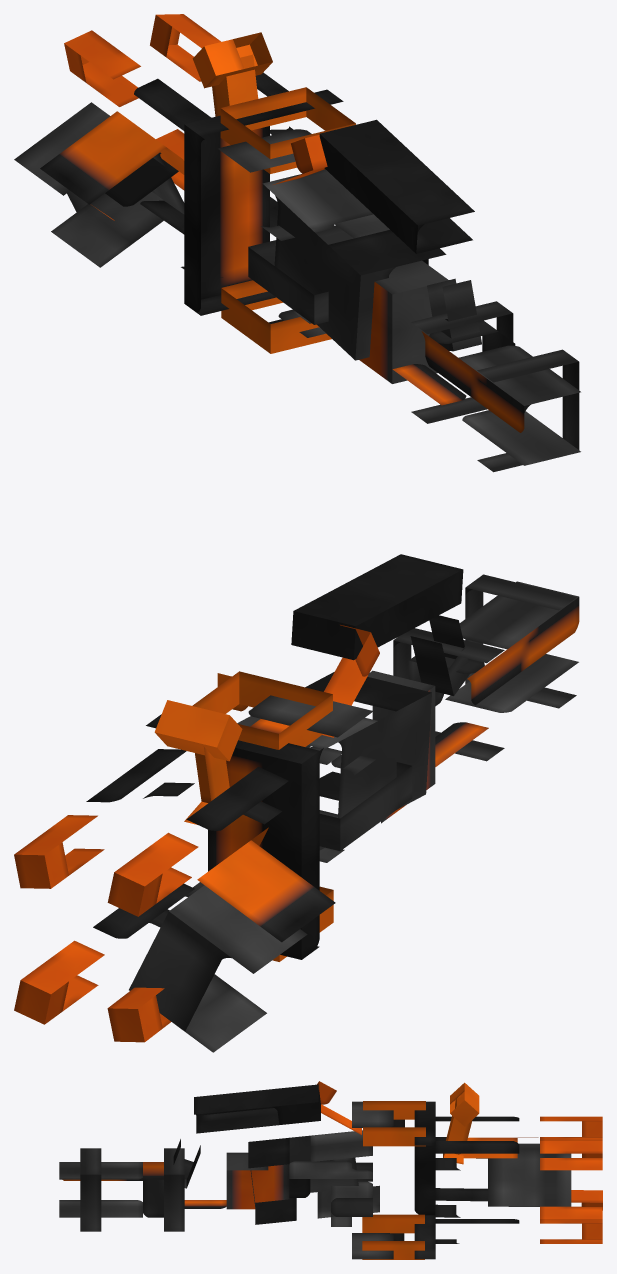
Rendered from flamethrower.obj.
3 views of the same model, one above another, from view 1: azimuth 30°, elevation 25°; view 2: azimuth 150°, elevation 25°; view 3: azimuth 270°, elevation 25° (orthographic). The views are drawn at different scales.
Parts seen in each view (by area): view 1: Ring, LargeBarrelDecor, Barrel, SupportCentre, Hydrogen, HydrogenDecor, LargeBarrel, AxleTRight, RingTop, LargeBarrelDecor2, RingButtom, BarrelRing2 (+8 smaller); view 2: Hydrogen, Ring, Barrel, SupportCentre, LargeBarrelDecor, AxleTRight, HydrogenDecor, AxleBLeft, AxleTLeft, RingTop, LargeBarrelDecor2, Grasp (+7 smaller); view 3: LargeBarrelDecor, Ring, SupportCentre, Hydrogen, Barrel, LargeBarrelDecor2, AxleTLeft, LargeBarrel, AxleBRight, RingTop, RingButtom, BarrelRing2 (+8 smaller).
Boxes of the visible parts, x1=… form: Ring: x1=184, y1=89, x2=343, y2=337; LargeBarrelDecor: x1=262, y1=169, x2=446, y2=360; Barrel: x1=392, y1=320, x2=580, y2=465; SupportCentre: x1=319, y1=119, x2=474, y2=253; Hydrogen: x1=14, y1=102, x2=184, y2=267; HydrogenDecor: x1=40, y1=111, x2=184, y2=206; LargeBarrel: x1=293, y1=224, x2=448, y2=383; AxleTRight: x1=64, y1=30, x2=211, y2=130; RingTop: x1=220, y1=87, x2=355, y2=173; LargeBarrelDecor2: x1=248, y1=214, x2=428, y2=324; RingButtom: x1=221, y1=280, x2=331, y2=353; BarrelRing2: x1=477, y1=349, x2=579, y2=472; Hydrogen: x1=129, y1=885, x2=307, y2=1052; Ring: x1=146, y1=673, x2=373, y2=959; Barrel: x1=408, y1=581, x2=579, y2=766; SupportCentre: x1=291, y1=554, x2=463, y2=660; LargeBarrelDecor: x1=237, y1=672, x2=431, y2=850; AxleTRight: x1=107, y1=767, x2=288, y2=916; HydrogenDecor: x1=197, y1=827, x2=335, y2=942; AxleBLeft: x1=14, y1=883, x2=194, y2=1024; AxleTLeft: x1=14, y1=749, x2=194, y2=888; RingTop: x1=192, y1=671, x2=332, y2=749; LargeBarrelDecor2: x1=305, y1=745, x2=412, y2=850; Grasp: x1=154, y1=700, x2=242, y2=761; LargeBarrelDecor: x1=248, y1=1130, x2=379, y2=1224; Ring: x1=352, y1=1101, x2=435, y2=1259; SupportCentre: x1=194, y1=1084, x2=320, y2=1133; Hydrogen: x1=488, y1=1143, x2=571, y2=1206; Barrel: x1=59, y1=1162, x2=226, y2=1217; LargeBarrelDecor2: x1=289, y1=1161, x2=372, y2=1216; AxleTLeft: x1=435, y1=1141, x2=602, y2=1170; LargeBarrel: x1=226, y1=1152, x2=351, y2=1226; AxleBRight: x1=435, y1=1188, x2=602, y2=1218; RingTop: x1=363, y1=1101, x2=425, y2=1146; RingButtom: x1=362, y1=1214, x2=424, y2=1259; BarrelRing2: x1=80, y1=1148, x2=101, y2=1231.
Size of the model in its own units: 0.4506 by 0.5127 by 1.76.
